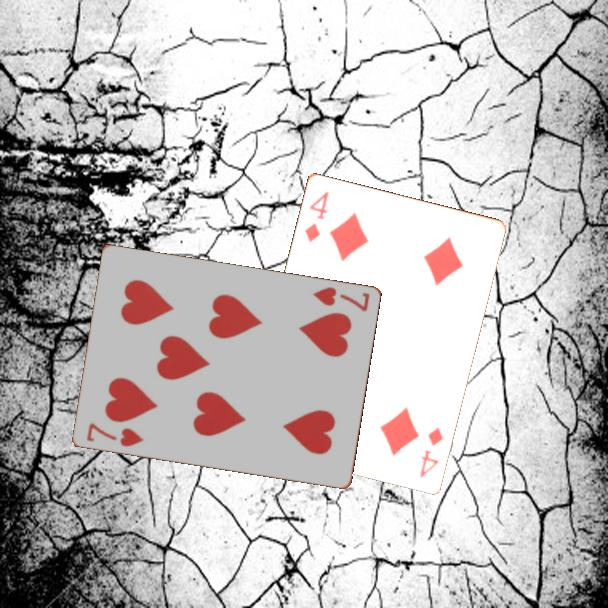d04: (301, 187, 331, 245), (416, 423, 446, 480)
h07: (309, 284, 372, 315), (83, 420, 146, 450)
